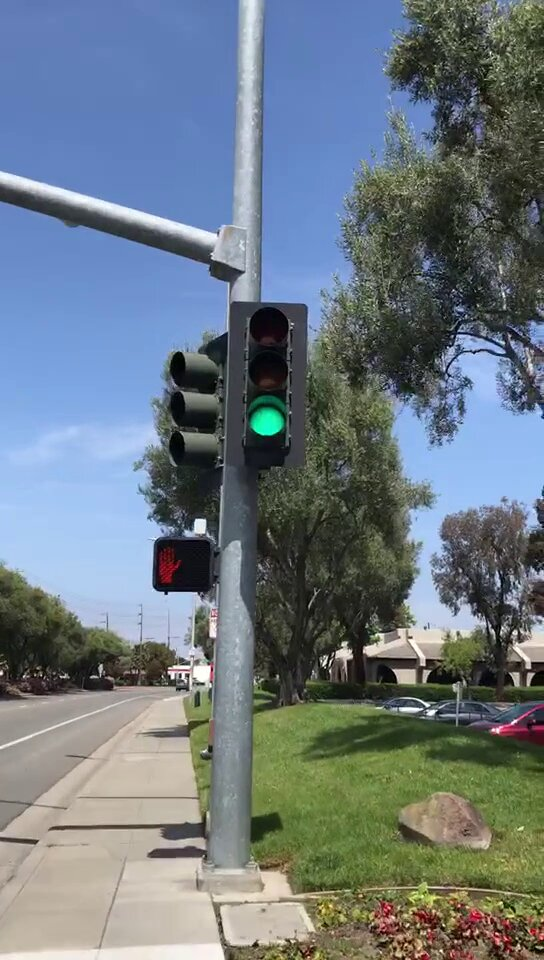green_light: (231, 303, 304, 463)
